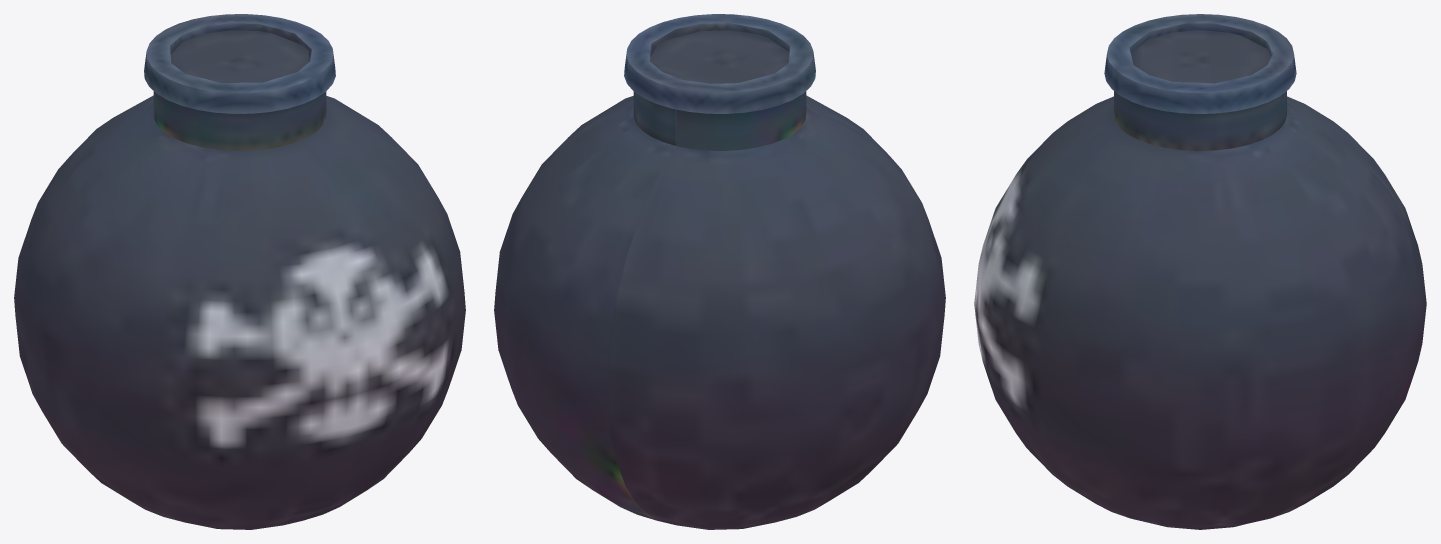
File: bomb.glb
3 renders of one model, left to right at view 1: azimuth 30°, elevation 25°; view 2: azimuth 150°, elevation 25°; view 3: azimuth 270°, elevation 25°, orthographic.
Visible parts, largest first — view 1: Rope_low_bomb_0; view 2: Rope_low_bomb_0; view 3: Rope_low_bomb_0.
Boxes of the visible parts, x1=… form: Rope_low_bomb_0: x1=14, y1=14, x2=465, y2=529; Rope_low_bomb_0: x1=494, y1=14, x2=945, y2=529; Rope_low_bomb_0: x1=974, y1=14, x2=1426, y2=529.
Size of the model in its own units: 1.03 by 1.14 by 1.03.
Materials: 1 (1 with a texture image).
